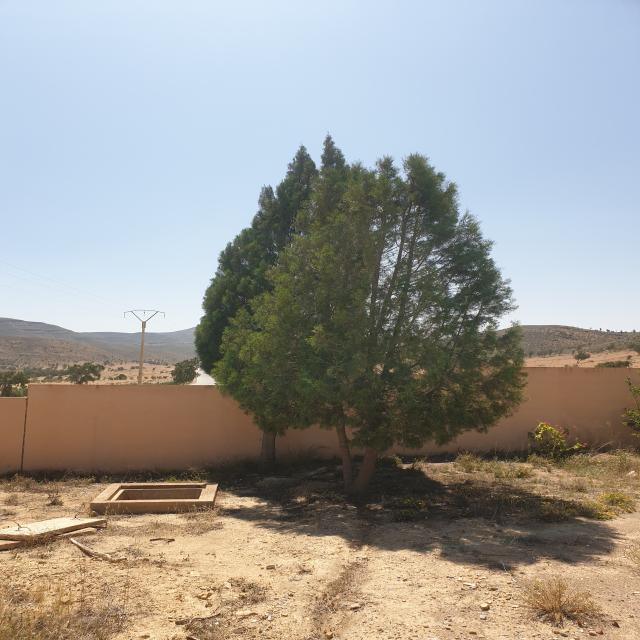Tree: (212, 136, 526, 496)
